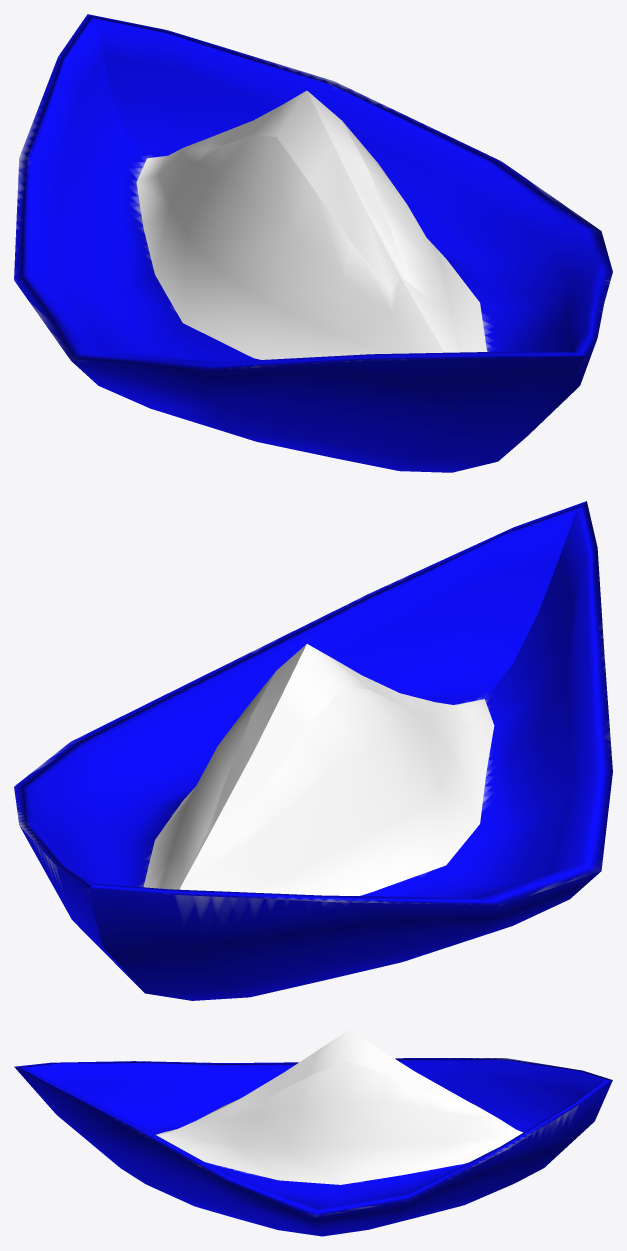
File: BlueBoat.fbx
3 views of the same model, one above another, from view 1: azimuth 30°, elevation 25°; view 2: azimuth 150°, elevation 25°; view 3: azimuth 270°, elevation 25° (orthographic). The views are drawn at different scales.
Visible parts, largest first — view 1: polySurface1; view 2: polySurface1; view 3: polySurface1.
Part boxes in pixels (left/top/right/bottom): polySurface1: left=14, top=14, right=612, bottom=472; polySurface1: left=14, top=501, right=612, bottom=1000; polySurface1: left=14, top=1029, right=612, bottom=1236.
Bounding box in the file's own units: 111 × 59 × 181.
1 material, 1 textured.
